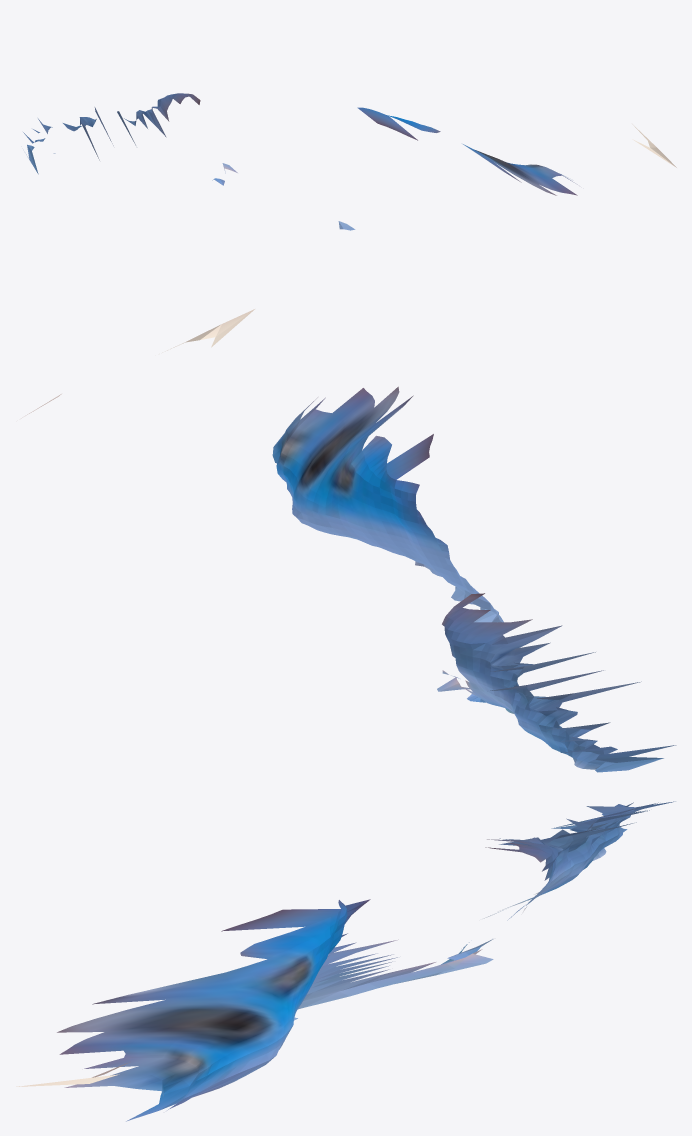
Rendered from observed-surface.glb.
3 views of the same model, one above another, from view 1: azimuth 30°, elevation 25°; view 2: azimuth 150°, elevation 25°; view 3: azimuth 270°, elevation 25° (orthographic). The views are drawn at different scales.
Visible parts, largest first — view 1: geometry_0; view 2: geometry_0; view 3: geometry_0.
Boxes of the visible parts, x1,y1,x2,y2 form: geometry_0: (23,93,676,230); geometry_0: (21,309,676,772); geometry_0: (16,801,675,1121).
Size of the model in its own units: 0.793 by 0.2141 by 0.6886.
1 material, 1 textured.
